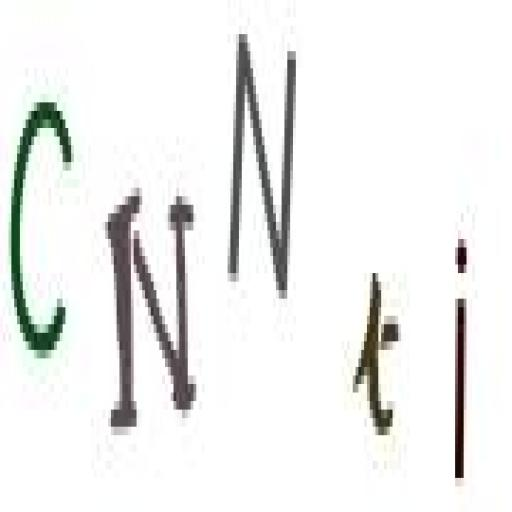C: (5, 68, 79, 393)
N: (103, 169, 200, 451), (226, 14, 301, 308)
i: (444, 226, 476, 498)
t: (351, 258, 403, 450)
